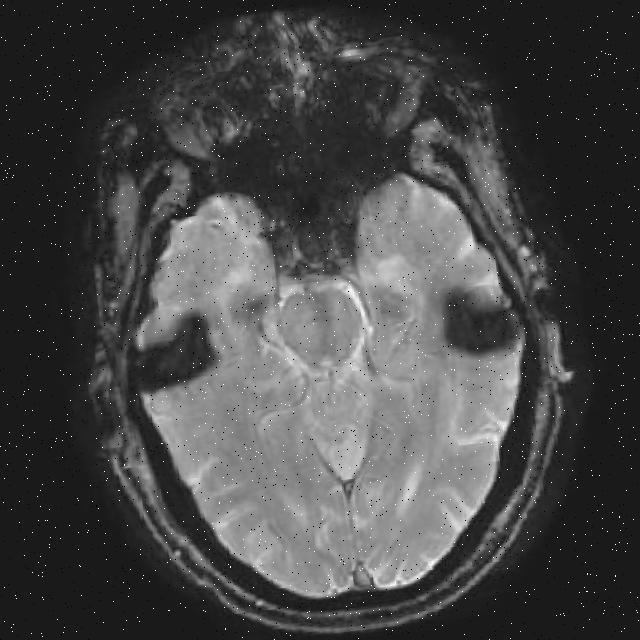LMCI: (139, 284, 261, 443)
MCI: (434, 239, 528, 419)
